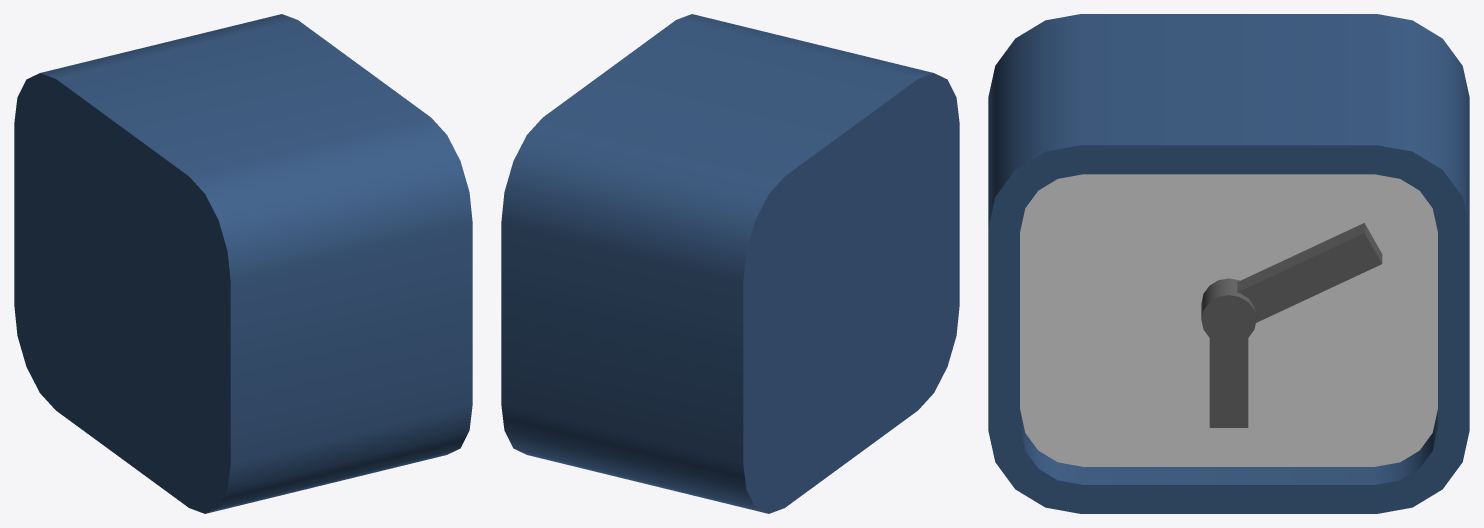
File: Clock.fbx
The picture shows the model from 3 angles, left to right: view 1: azimuth 30°, elevation 25°; view 2: azimuth 150°, elevation 25°; view 3: azimuth 270°, elevation 25°; orthographic projection. The views are drawn at different scales.
Visible parts, largest first — view 1: Clock; view 2: Clock; view 3: Clock, Cylinder.002, Cylinder.
Part boxes in pixels (x1,y1,x2,y2): Clock: (14,14,472,513); Clock: (501,14,959,513); Clock: (988,14,1469,513); Cylinder.002: (1237,223,1382,322); Cylinder: (1209,338,1248,427).
Size of the model in its own units: 153 by 200 by 237.
